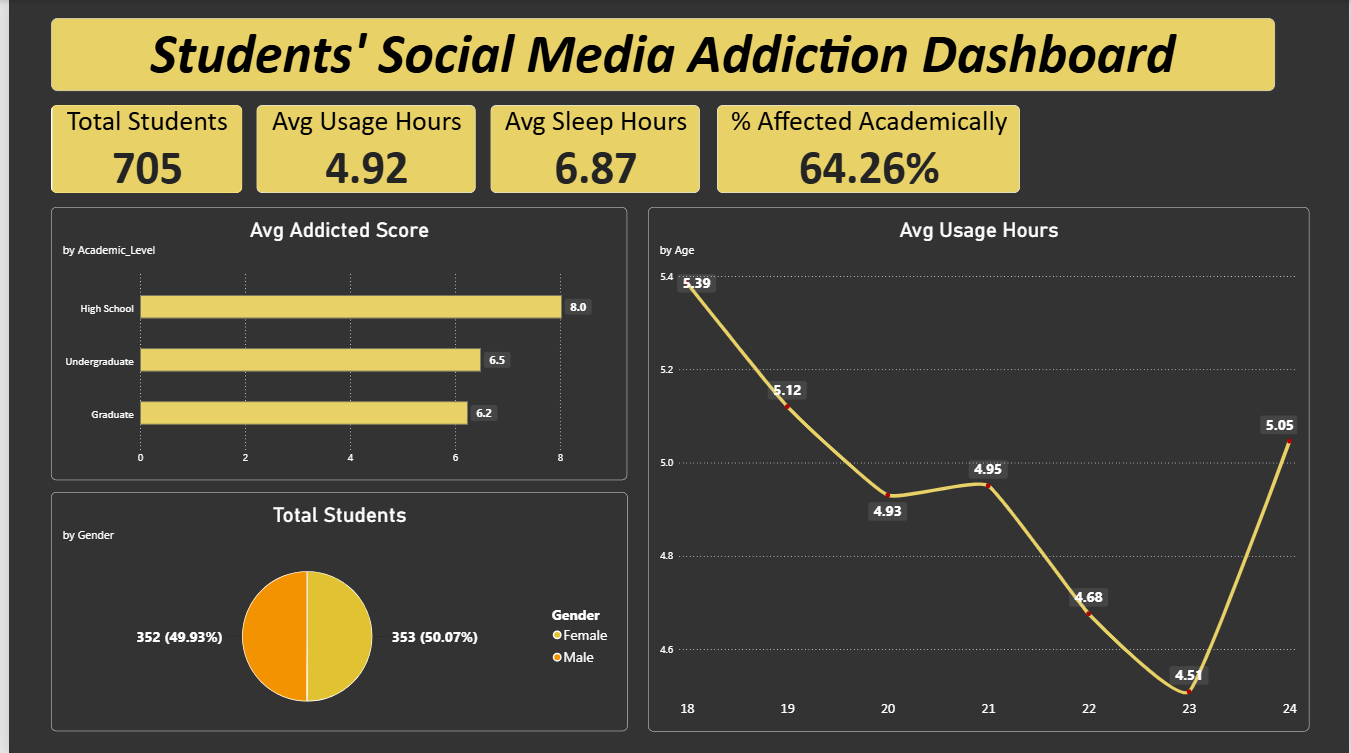

This screenshot's page, from the dashboard's own definition file:
{"tool":"powerbi","page":{"name":"Executive Overview","canvas":[1920,1080],"ordinal":0},"visuals":[{"type":"textbox","box":[59.6,26.2,1753.6,105],"z":0},{"type":"cardVisual","fields":{"Data":["_Measures.Total Students"]},"box":[59.6,150.3,274.4,126.5],"z":1000},{"type":"cardVisual","fields":{"Data":["_Measures.% Affected Academically"]},"box":[1014,150.3,434.2,126.5],"z":2000},{"type":"cardVisual","fields":{"Data":["_Measures.Avg Usage Hours"]},"box":[355.5,150.3,314.9,126.5],"z":3000},{"type":"cardVisual","fields":{"Data":["_Measures.Avg Sleep Hours"]},"box":[689.5,150.3,300.6,126.5],"z":4000},{"type":"clusteredBarChart","fields":{"Category":["Student_Details.Academic_Level"],"Y":["_Measures.Avg Addicted Score"]},"box":[59.6,295.9,825.5,391.3],"z":5000},{"type":"lineChart","fields":{"Category":["Student_Details.Age"],"Y":["_Measures.Avg Usage Hours"]},"box":[916.2,295.9,947.2,751.6],"z":6000},{"type":"pieChart","fields":{"Category":["Student_Details.Gender"],"Y":["_Measures.Total Students"]},"box":[60.1,705.6,825.7,342.8],"z":7000}]}

Visuals, with their boxes in screenshot pixels (x1, y1, x2, y2), scaled from the page's 1920x1080 canvas onto the 1351x753 screenshot:
textbox: box(42, 18, 1276, 91)
cardVisual - _Measures.Total Students: box(42, 105, 235, 193)
cardVisual - _Measures.% Affected Academically: box(713, 105, 1019, 193)
cardVisual - _Measures.Avg Usage Hours: box(250, 105, 472, 193)
cardVisual - _Measures.Avg Sleep Hours: box(485, 105, 697, 193)
clusteredBarChart - Student_Details.Academic_Level x _Measures.Avg Addicted Score: box(42, 206, 623, 479)
lineChart - Student_Details.Age x _Measures.Avg Usage Hours: box(645, 206, 1311, 730)
pieChart - Student_Details.Gender x _Measures.Total Students: box(42, 492, 623, 731)
